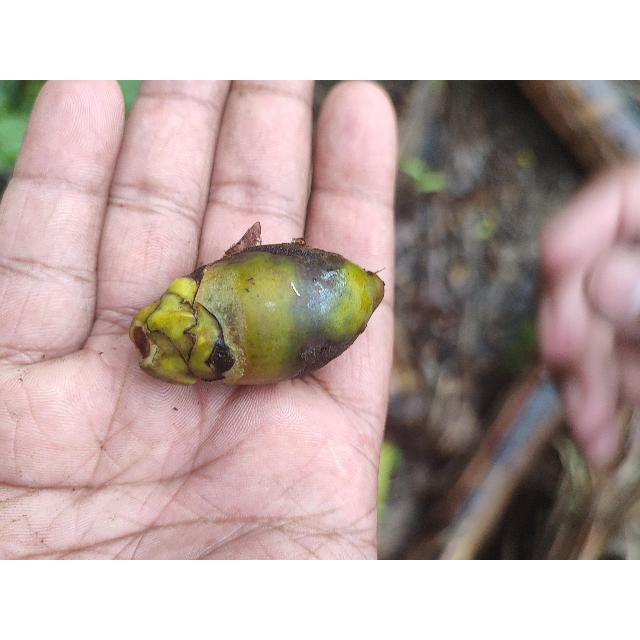damaged: (128, 229, 385, 387)
